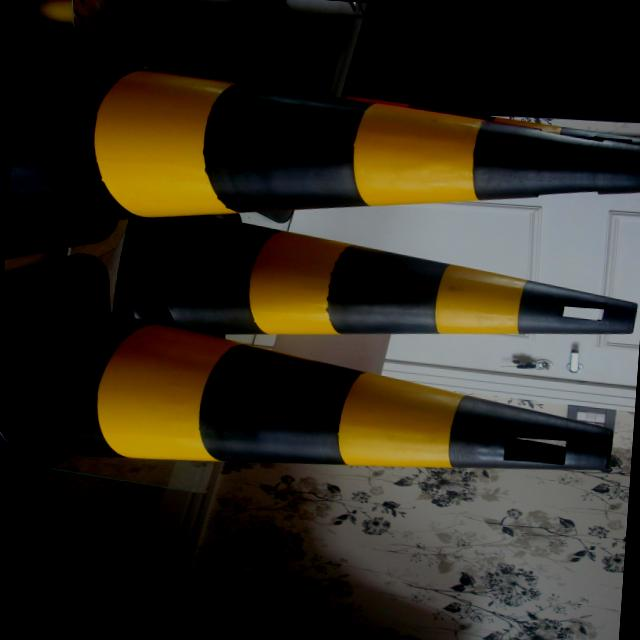cone: (0, 326, 628, 524), (23, 65, 640, 250)
